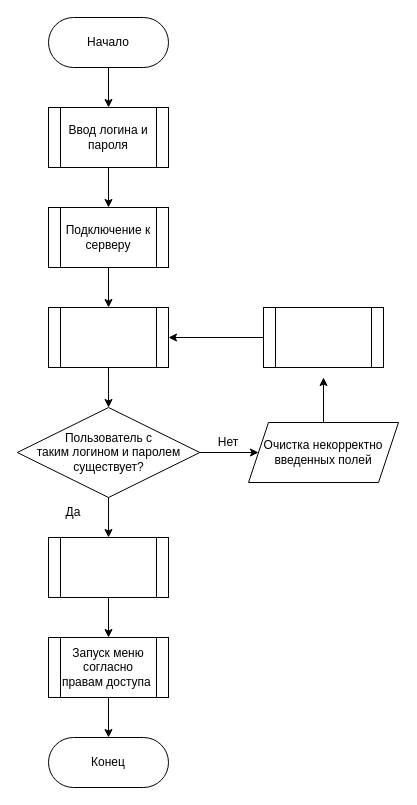
This 417x805 diagram has some shape labels left out. The box of each missing label's shape, as (x1, y1, x2, y2) in pixels:
Отправка данных о роли пользователя на сервер: (48, 536, 168, 598)
Повторный ввод логина и пароля: (262, 306, 384, 368)
Сверка логина и пароля с базой данных: (48, 306, 168, 368)
